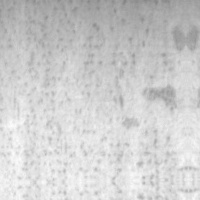pitted_surface: (0, 0, 172, 181), (126, 24, 188, 180)
